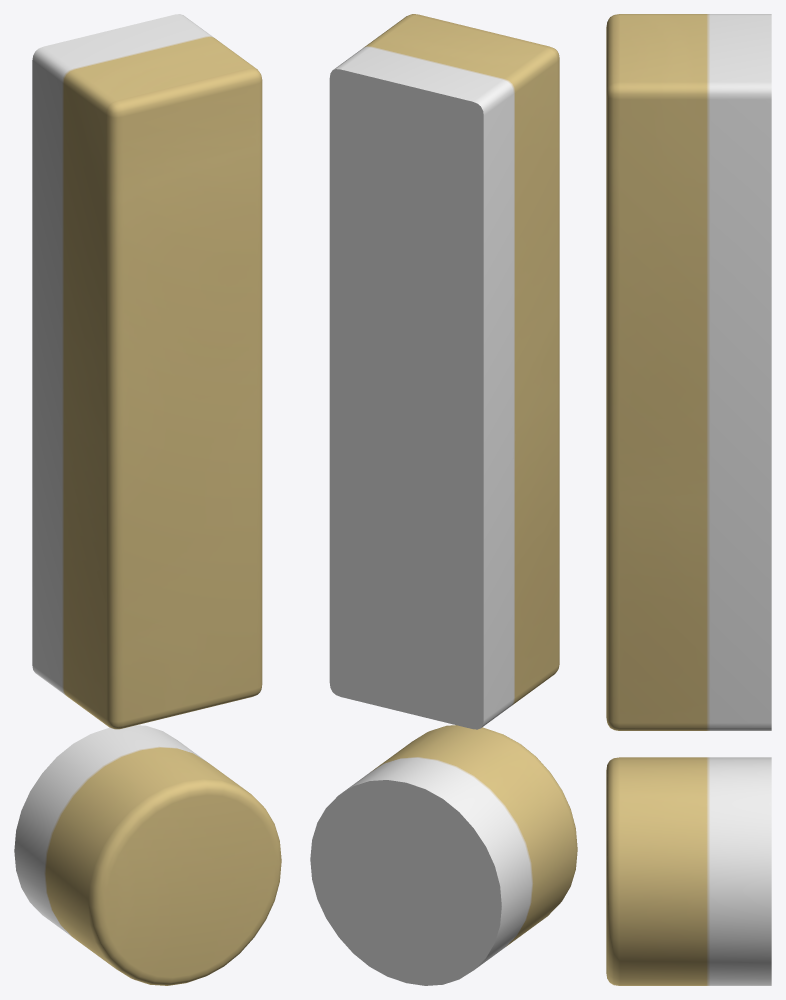
Rendered from LettersLightUp01_S1.FBX.
3 renders of one model, left to right at view 1: azimuth 30°, elevation 25°; view 2: azimuth 150°, elevation 25°; view 3: azimuth 270°, elevation 25°, orthographic. The views are drawn at different scales.
Visible parts, largest first — view 1: LettersLightUp01_S1; view 2: LettersLightUp01_S1; view 3: LettersLightUp01_S1.
Part boxes in pixels (x1,y1,x2,y2): LettersLightUp01_S1: (14, 14, 281, 985); LettersLightUp01_S1: (310, 14, 577, 985); LettersLightUp01_S1: (606, 14, 771, 985).
Size of what is drawn, in the model's own units: 0.1397 by 0.6254 by 0.1012.
